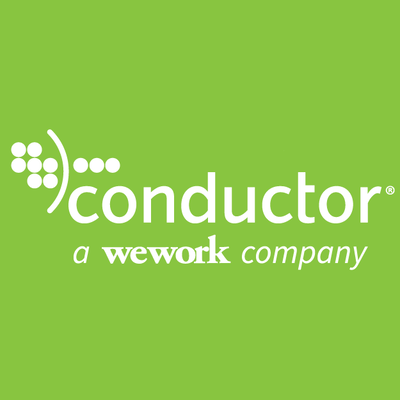wework: (99, 232, 234, 268)
